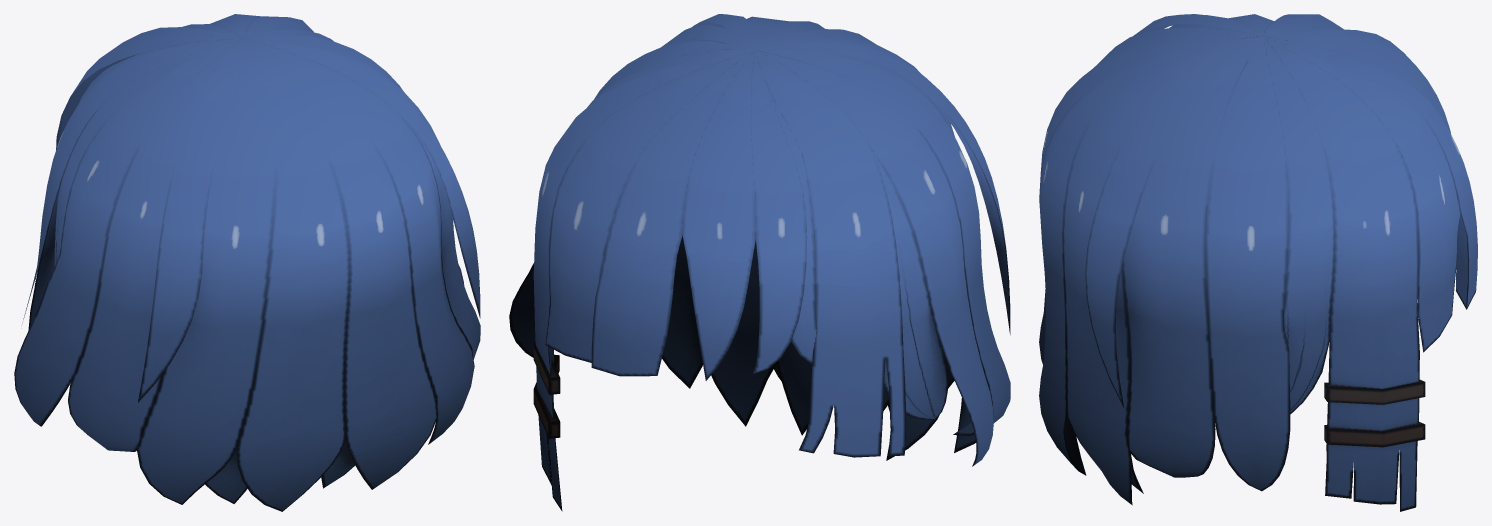
Rendered from 12-Ryo-137412726411371.glb.
The picture shows the model from 3 angles, left to right: view 1: azimuth 30°, elevation 25°; view 2: azimuth 150°, elevation 25°; view 3: azimuth 270°, elevation 25°; orthographic projection. The views are drawn at different scales.
Parts seen in each view (by area): view 1: Ryo; view 2: Ryo; view 3: Ryo.
Part boxes in pixels (<box>): Ryo: <box>14,14,480,511</box>; Ryo: <box>509,14,1010,511</box>; Ryo: <box>1039,14,1477,511</box>.
Size of the model in its own units: 1.98 by 1.78 by 1.66.
Materials: 1 (1 with a texture image).
